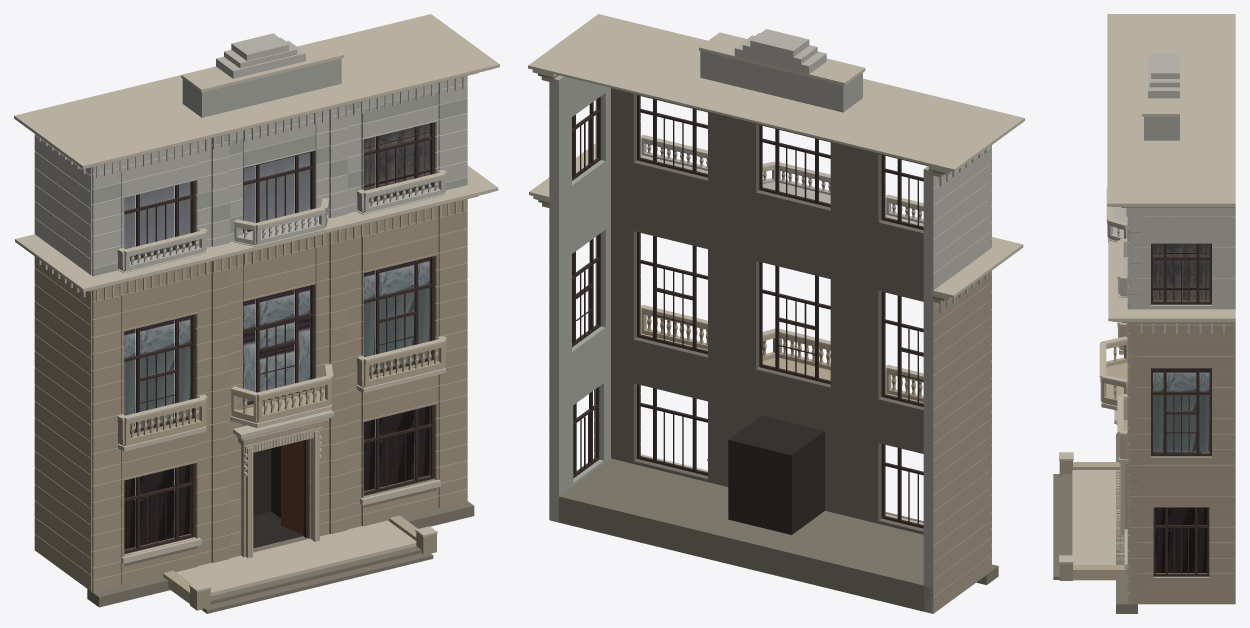
The model's file is jingan-central-reserve-bank-changshu-front-lod.glb.
3 renders of one model, left to right at view 1: azimuth 30°, elevation 25°; view 2: azimuth 150°, elevation 25°; view 3: azimuth 270°, elevation 25°, orthographic. The views are drawn at different scales.
Visible parts, largest first — view 1: 中央储备银行常熟路旧址正门与三跨石阳台; view 2: 中央储备银行常熟路旧址正门与三跨石阳台; view 3: 中央储备银行常熟路旧址正门与三跨石阳台.
Part boxes in pixels (x1,y1,x2,y2): 中央储备银行常熟路旧址正门与三跨石阳台: (14, 14, 499, 613); 中央储备银行常熟路旧址正门与三跨石阳台: (528, 14, 1024, 613); 中央储备银行常熟路旧址正门与三跨石阳台: (1053, 14, 1235, 613).
Bounding box in the file's own units: 17.91 × 20.45 × 7.27.
Materials: 16 (5 with a texture image).
